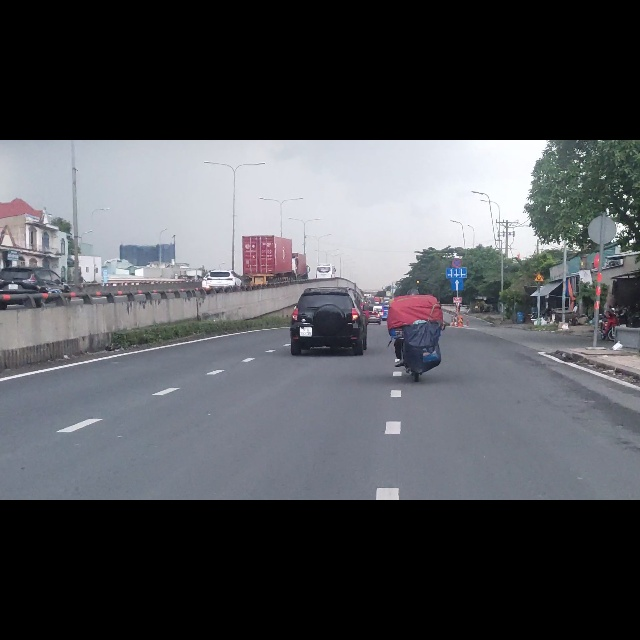bien_cam: (451, 245, 464, 268), (453, 211, 462, 226), (534, 236, 543, 251)
